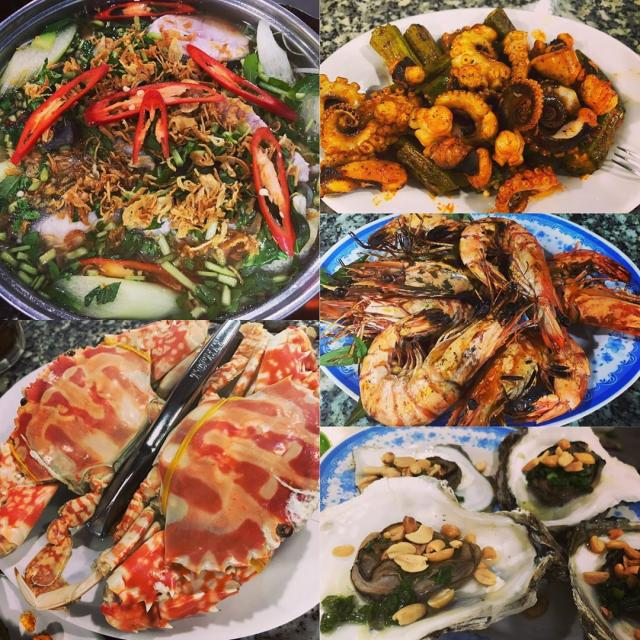cua hap: (0, 320, 318, 637)
hau nuong mo hanh: (321, 427, 639, 636)
muc nuong: (320, 2, 640, 211)
tom nuong: (322, 214, 640, 422)
